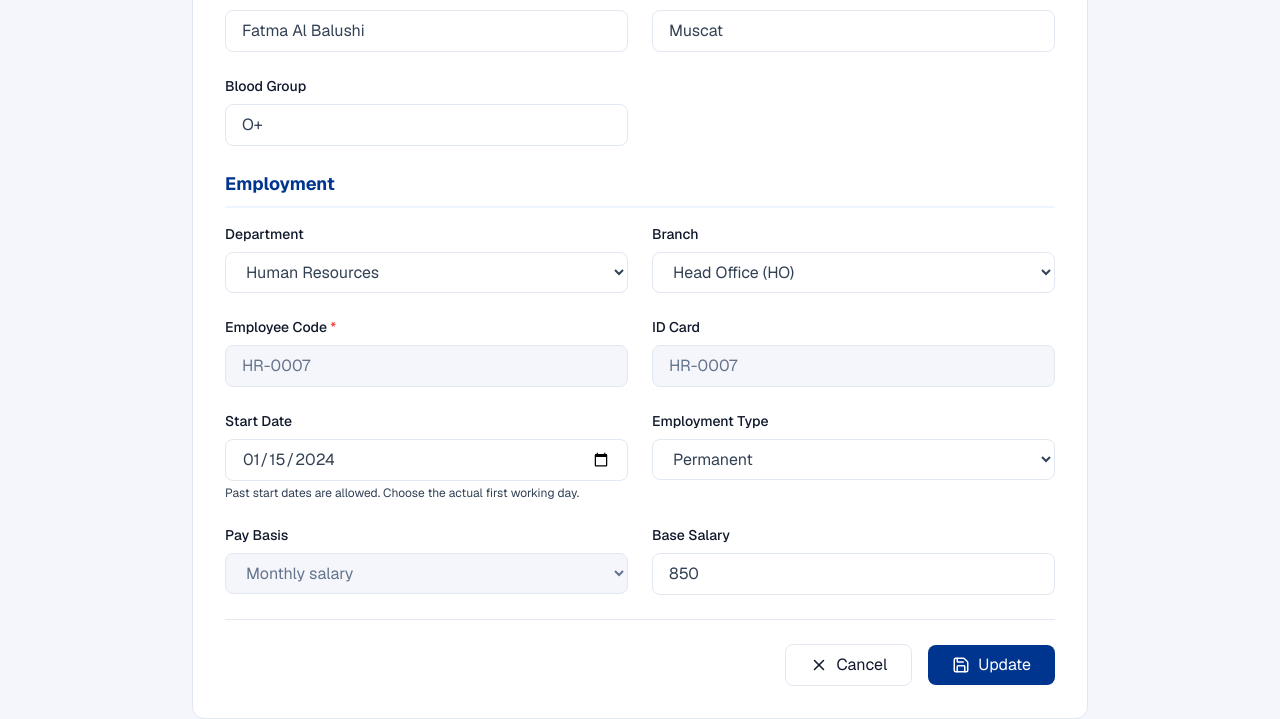
it: a rejected save › surfaces field errors from a rejected update too
(page scrolled)
Step 1. Click the button "Update" → [992, 665], box top-left (928, 645), bottom-right (1055, 685)
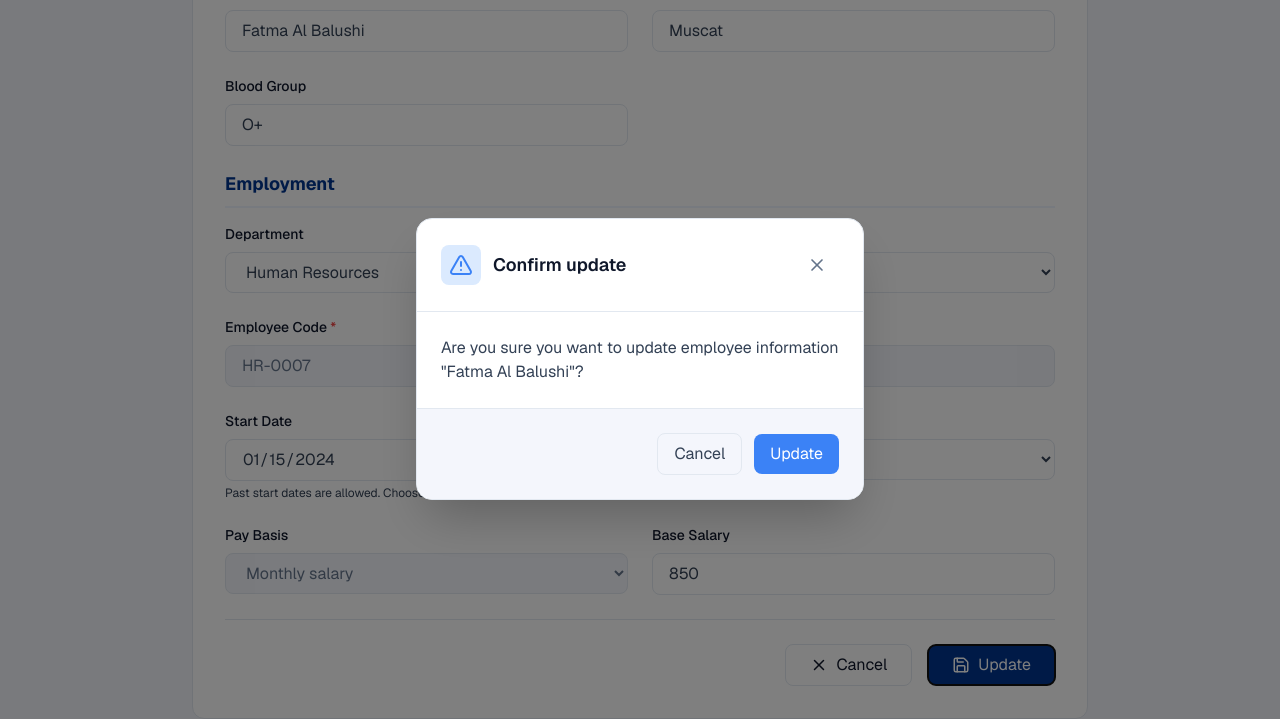
Step 2. Click the button with test id "confirm-modal-confirm" → [797, 454], box top-left (754, 434), bottom-right (839, 474)
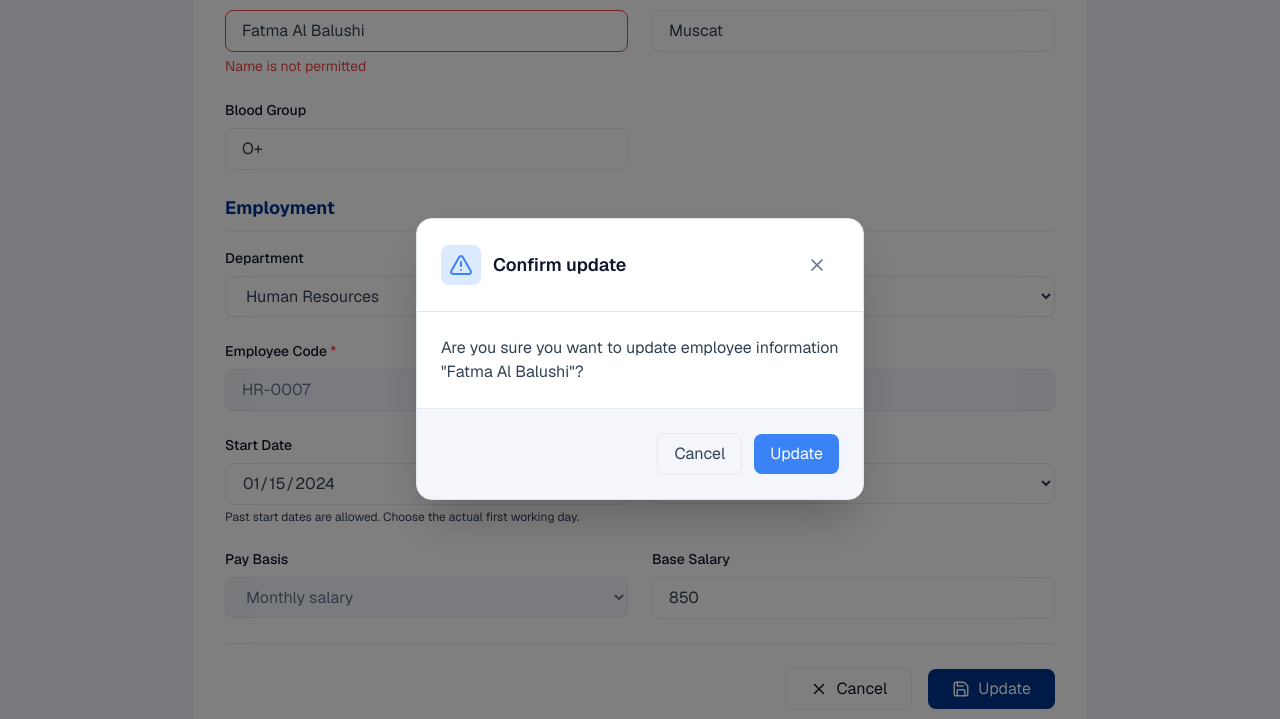
Expected: the text "Name is not permitted" is shown, top-left (225, 57), bottom-right (366, 75)
